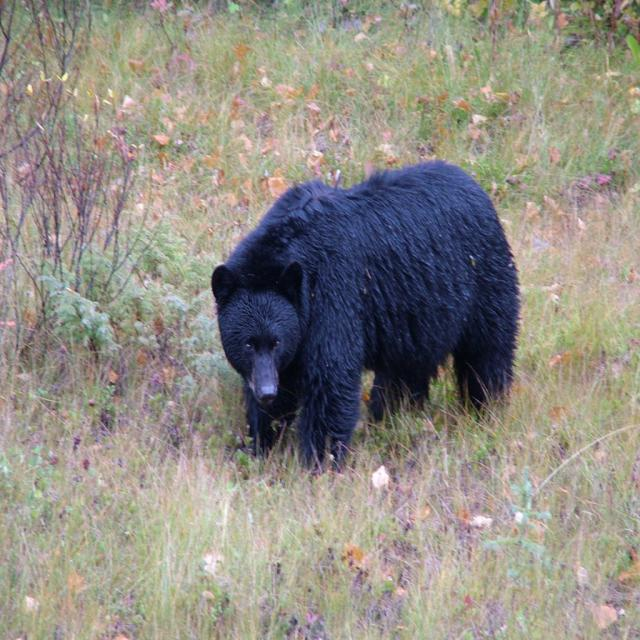Bear: (210, 159, 523, 472)
